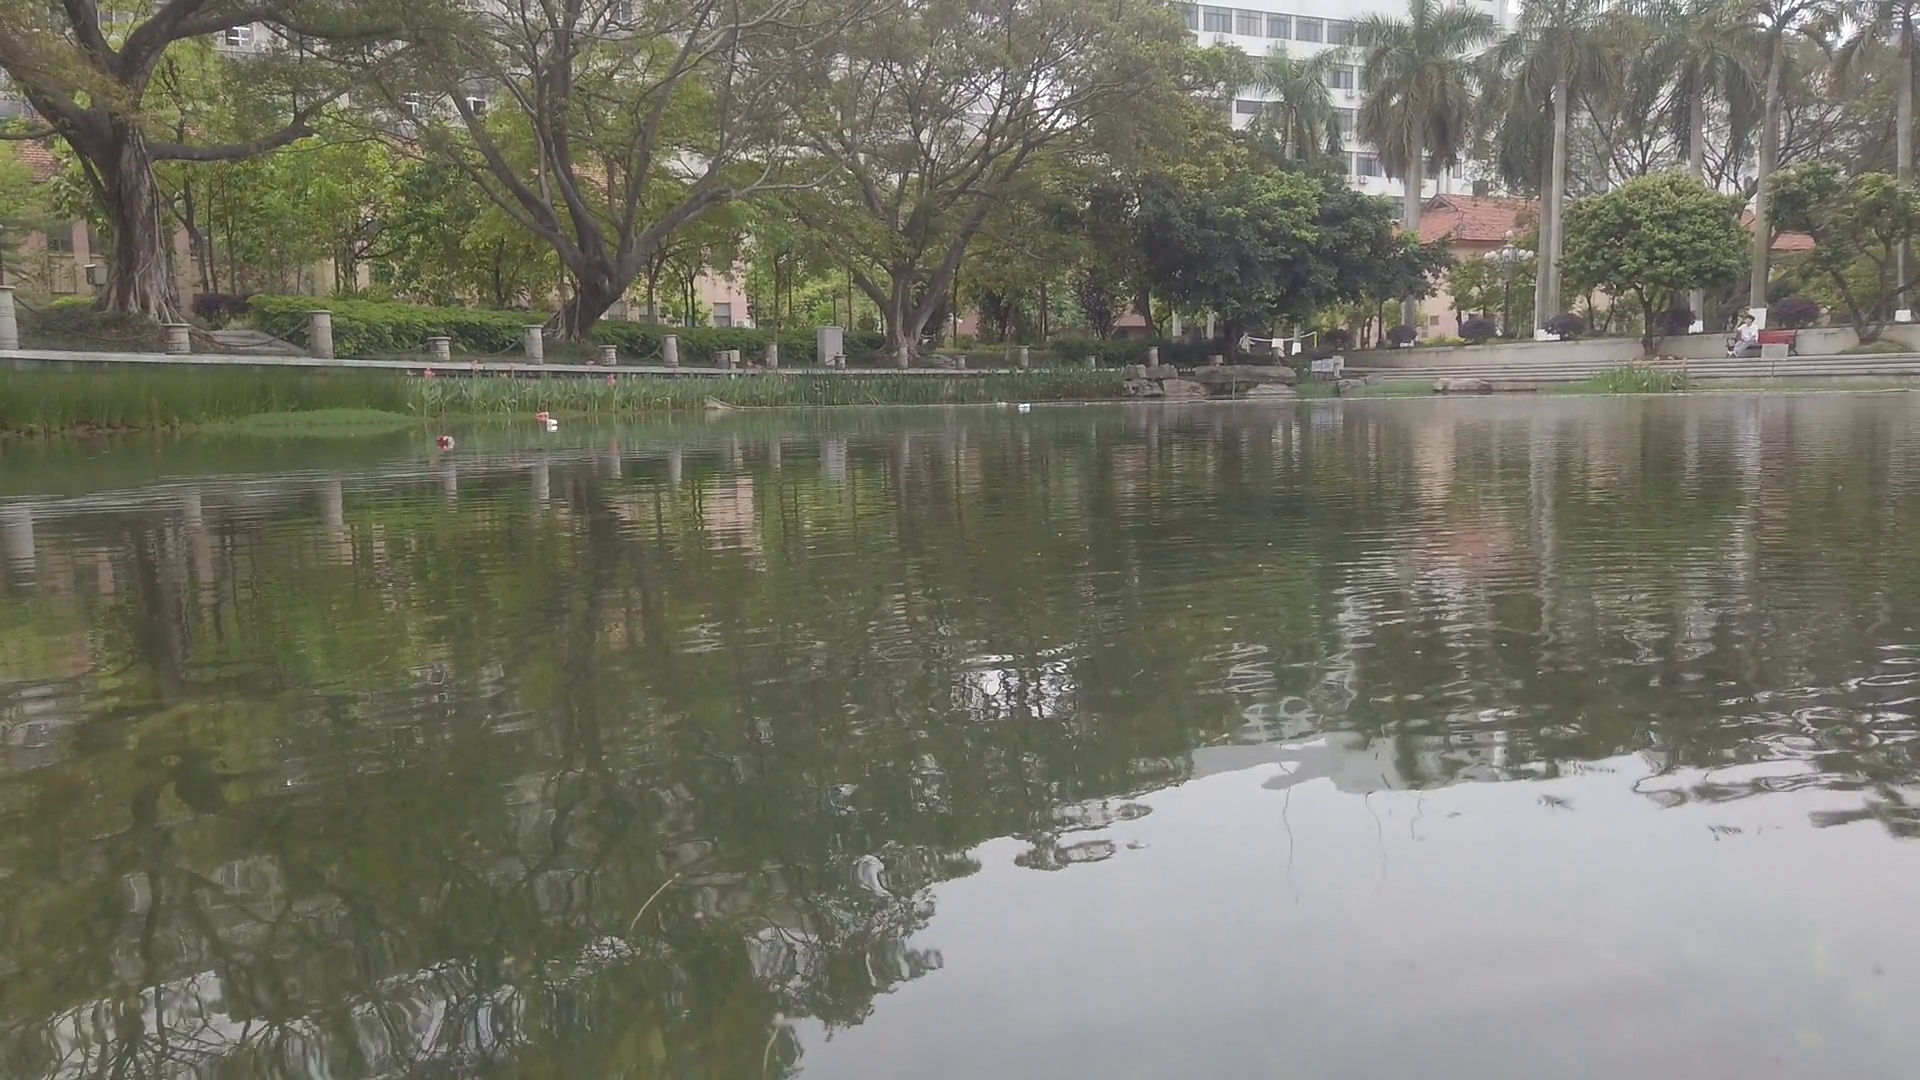bottle: (436, 435, 455, 444), (1018, 404, 1033, 411), (538, 411, 550, 417), (998, 401, 1007, 407)
carton: (547, 419, 558, 430)
